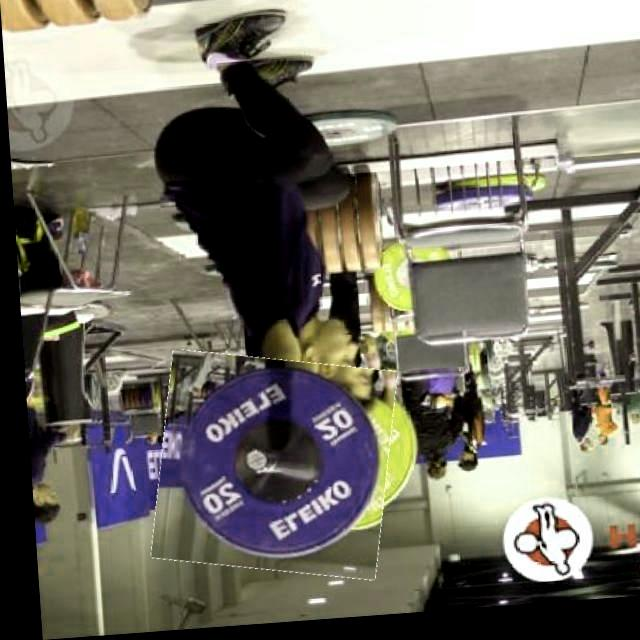barbell: (141, 349, 394, 590)
